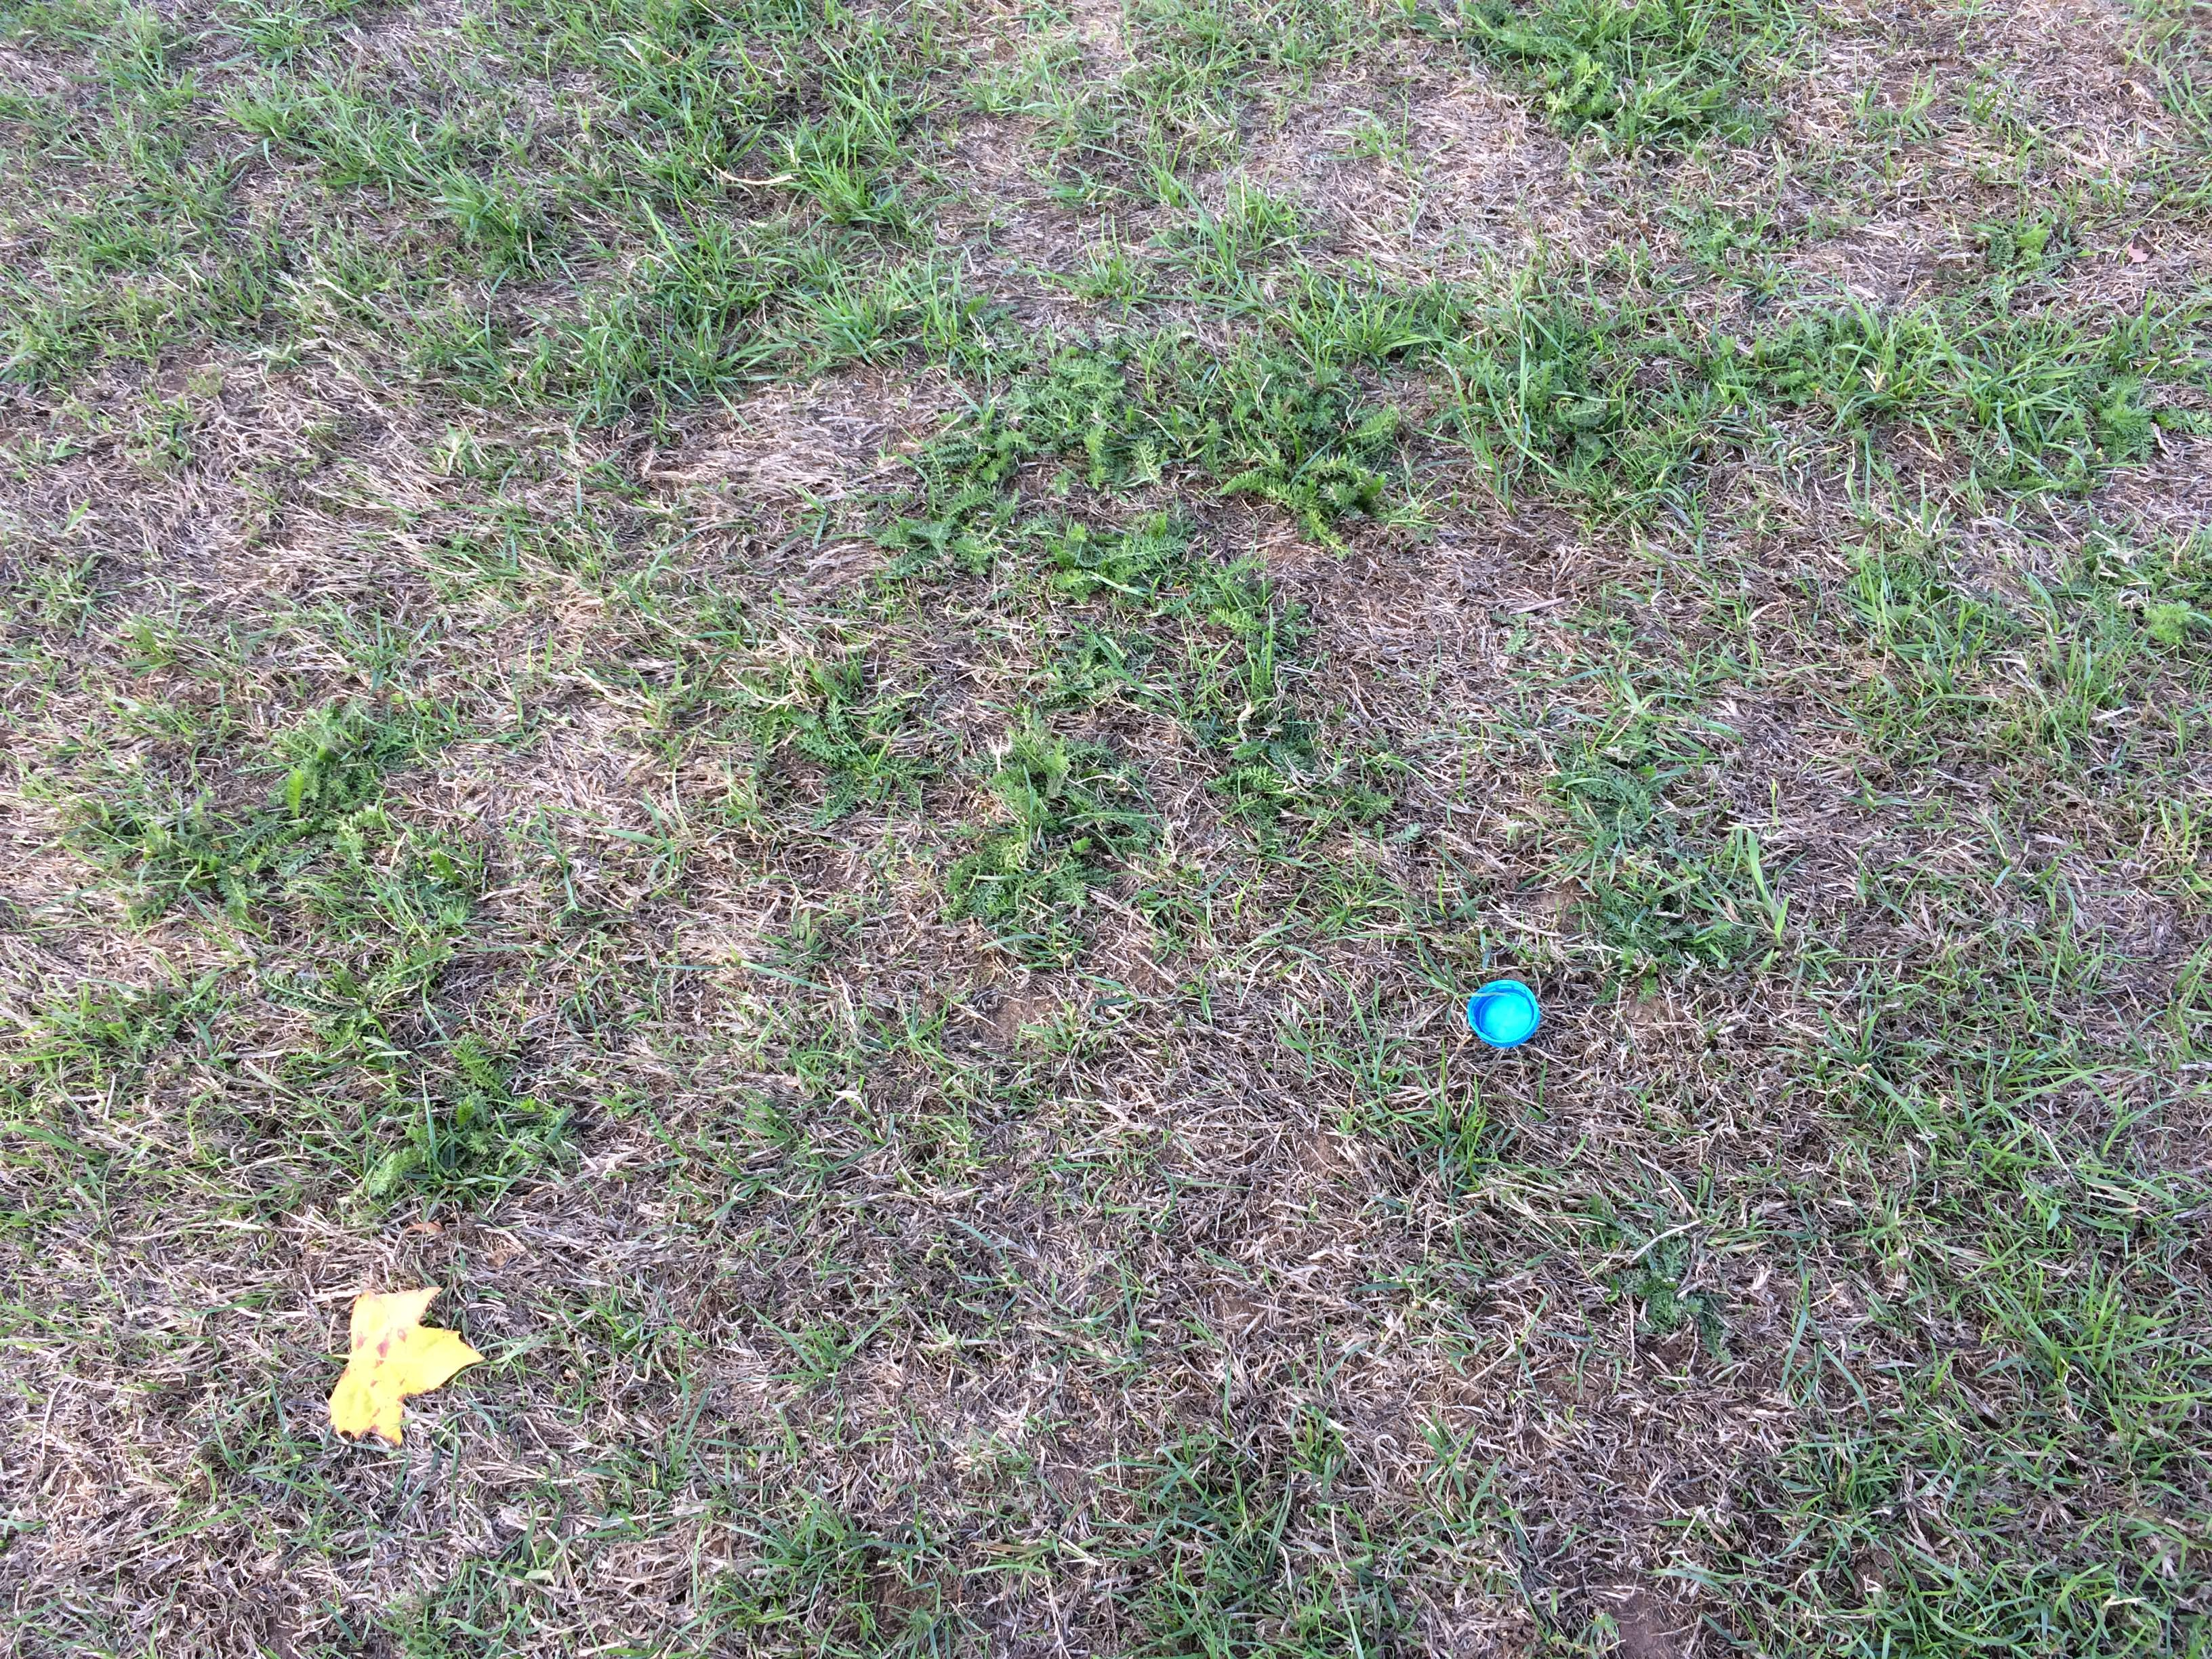Trash: (324, 1277, 483, 1448), (1463, 973, 1547, 1051)
